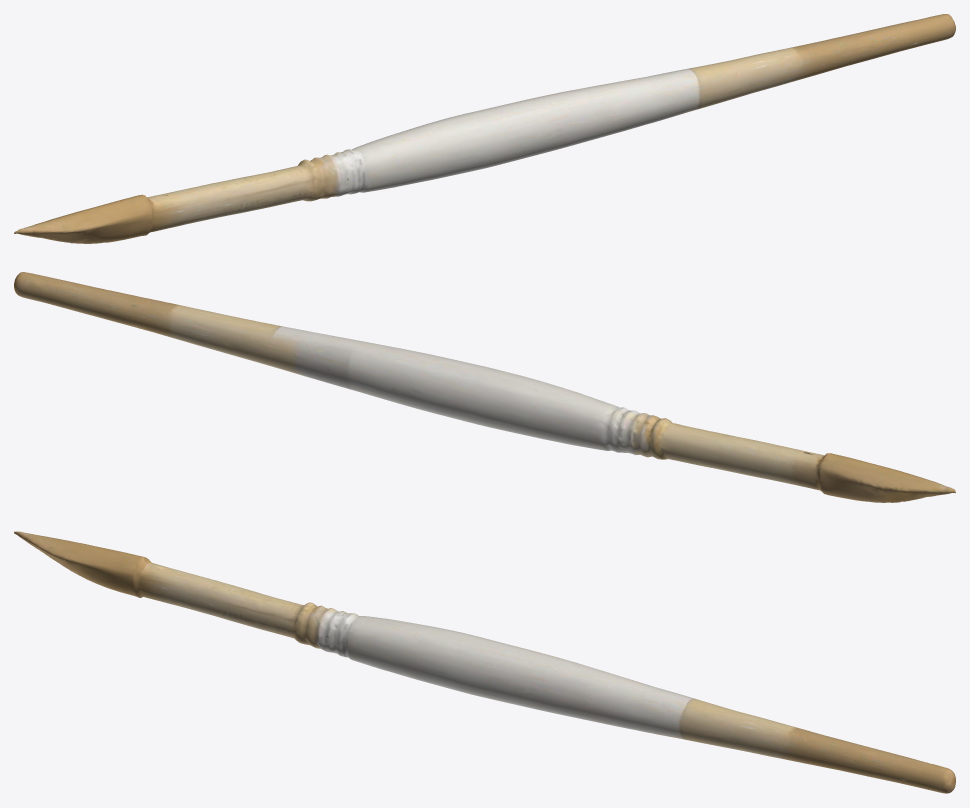
The model's file is tool-brush.glb.
3 views of the same model, one above another, from view 1: azimuth 30°, elevation 25°; view 2: azimuth 150°, elevation 25°; view 3: azimuth 330°, elevation 25° (orthographic).
Bounding box in the file's own units: 2 × 0.1084 × 0.1021.
Materials: 1 (1 with a texture image).
